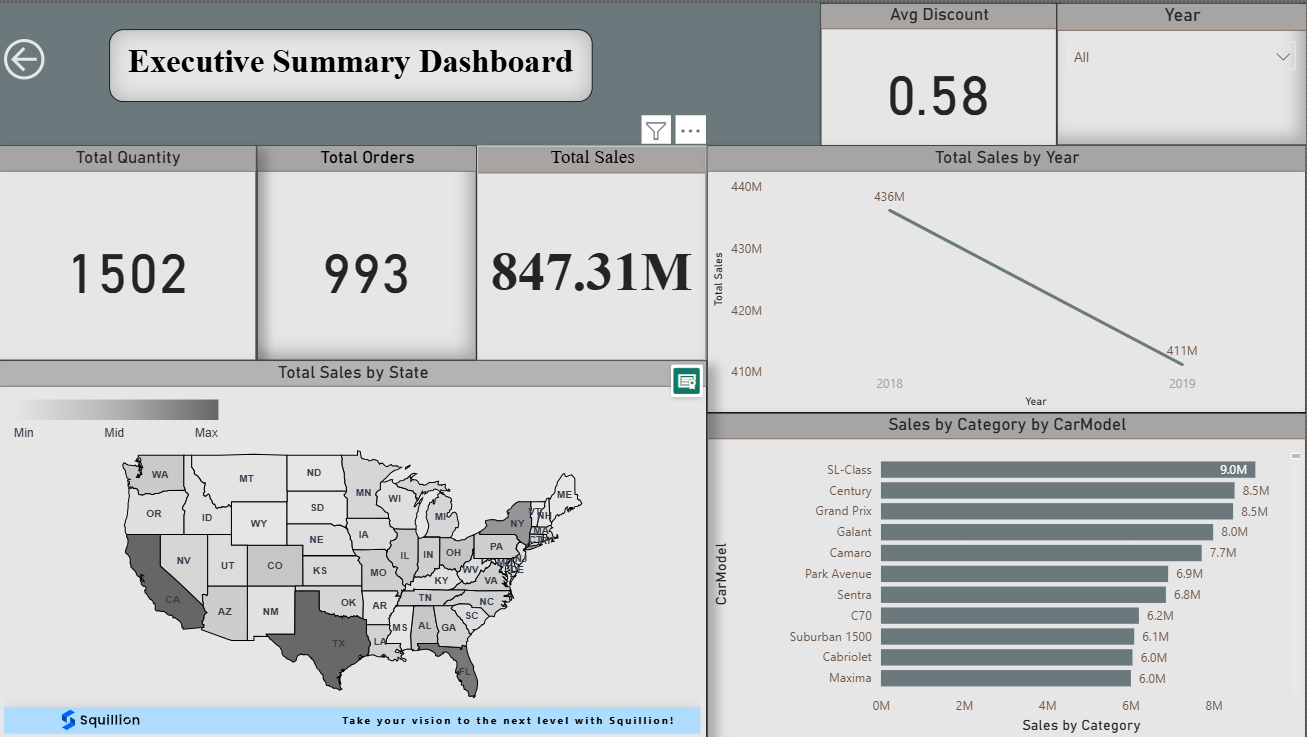

The dashboard page shown, as its layout file describes it:
{"tool":"powerbi","page":{"name":"Executive Summary Dashboard","canvas":[1280,720],"ordinal":1},"visuals":[{"type":"card","title":"Total Sales","fields":{"Values":["Orders.Total Sales"]},"box":[468.8,140,225,210],"z":0},{"type":"card","title":"Total Orders","fields":{"Values":["Orders.Total Orders"]},"box":[253.1,139.4,215.2,210.3],"z":1000},{"type":"card","title":"Avg Discount","fields":{"Values":["Orders.Avg Discount"]},"box":[805,0,231.2,140],"z":2000},{"type":"card","title":"Total Quantity","fields":{"Values":["Orders.Total Quantity"]},"box":[0,139.4,253.1,210.3],"z":3000},{"type":"lineChart","fields":{"Category":["Calendar_Table.OrderDate.Variation.Date Hierarchy.Year"],"Y":["Orders.Total Sales"]},"box":[693.8,140,586.2,261.2],"z":4000},{"type":"clusteredBarChart","fields":{"Category":["product.CarModel"],"Y":["Orders.Sales by Category"]},"box":[693.8,401.2,586.2,318.8],"z":5000},{"type":"MapBySquillion","fields":{"category":["Customer.State"],"value":["Orders.Total Sales"]},"box":[0,350,693.8,370],"z":6000},{"type":"textbox","box":[109,26,472.5,71.2],"z":7000},{"type":"slicer","title":"Year","fields":{"Values":["Calendar_Table.OrderDate.Variation.Date Hierarchy.Year"]},"box":[1035.7,0,244.6,139.4],"z":8000},{"type":"actionButton","box":[0,29.3,74.6,51.4],"z":9000}]}

Visuals, with their boxes in screenshot pixels (x1, y1, x2, y2), scaled from the page's 1280x720 canvas onto the 1307x737 screenshot:
"Total Sales" card: left=479, top=143, right=708, bottom=358
"Total Orders" card: left=258, top=143, right=478, bottom=358
"Avg Discount" card: left=822, top=0, right=1058, bottom=143
"Total Quantity" card: left=0, top=143, right=258, bottom=358
lineChart - Calendar_Table.OrderDate.Variation.Date Hierarchy.Year x Orders.Total Sales: left=708, top=143, right=1306, bottom=411
clusteredBarChart - product.CarModel x Orders.Sales by Category: left=708, top=411, right=1306, bottom=736
MapBySquillion - Customer.State x Orders.Total Sales: left=0, top=358, right=708, bottom=736
textbox: left=111, top=27, right=594, bottom=99
"Year" slicer: left=1058, top=0, right=1306, bottom=143
actionButton: left=0, top=30, right=76, bottom=83
